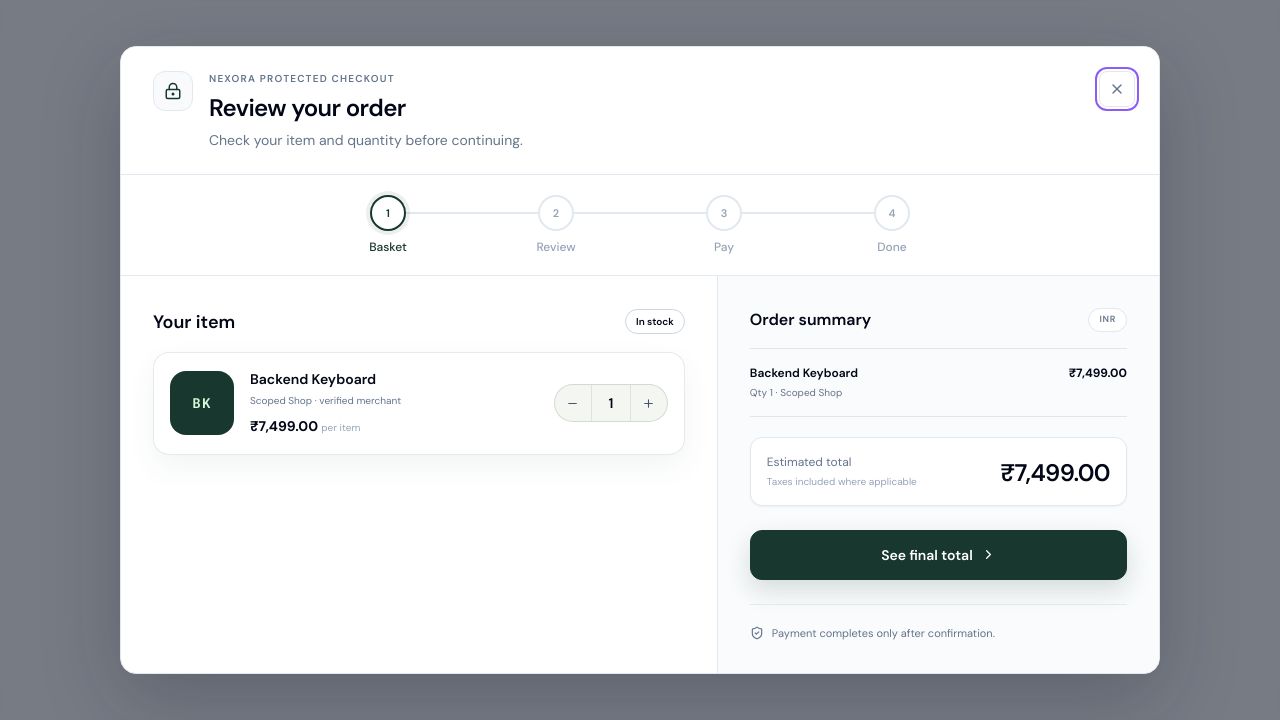
Test: approval-gated checkout › does not consume approval or reserve stock when Razorpay Checkout cannot load
Click the button "See final total" at coordinates (938, 555), box left=750, top=530, right=1127, bottom=580
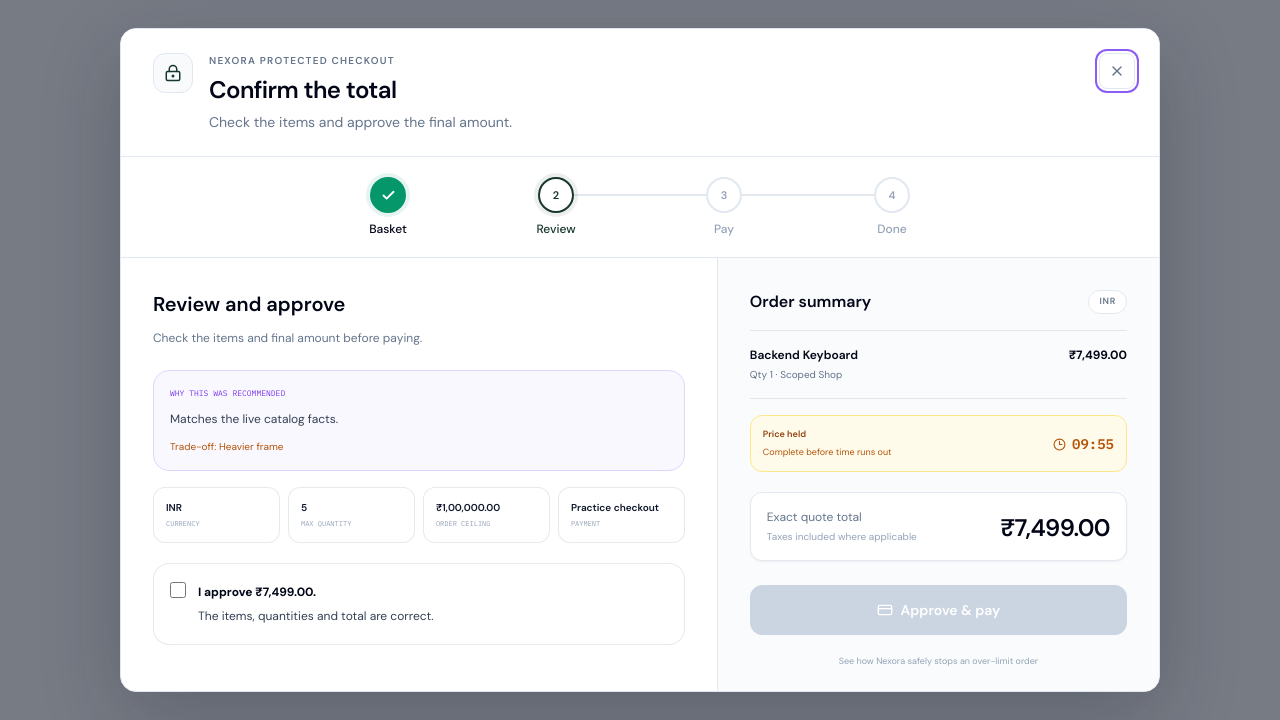
Result: the heading "Review and approve" is shown at left=153, top=291, right=346, bottom=317
Click the checkbox labelled "I approve" at coordinates (178, 590), box left=170, top=582, right=186, bottom=598
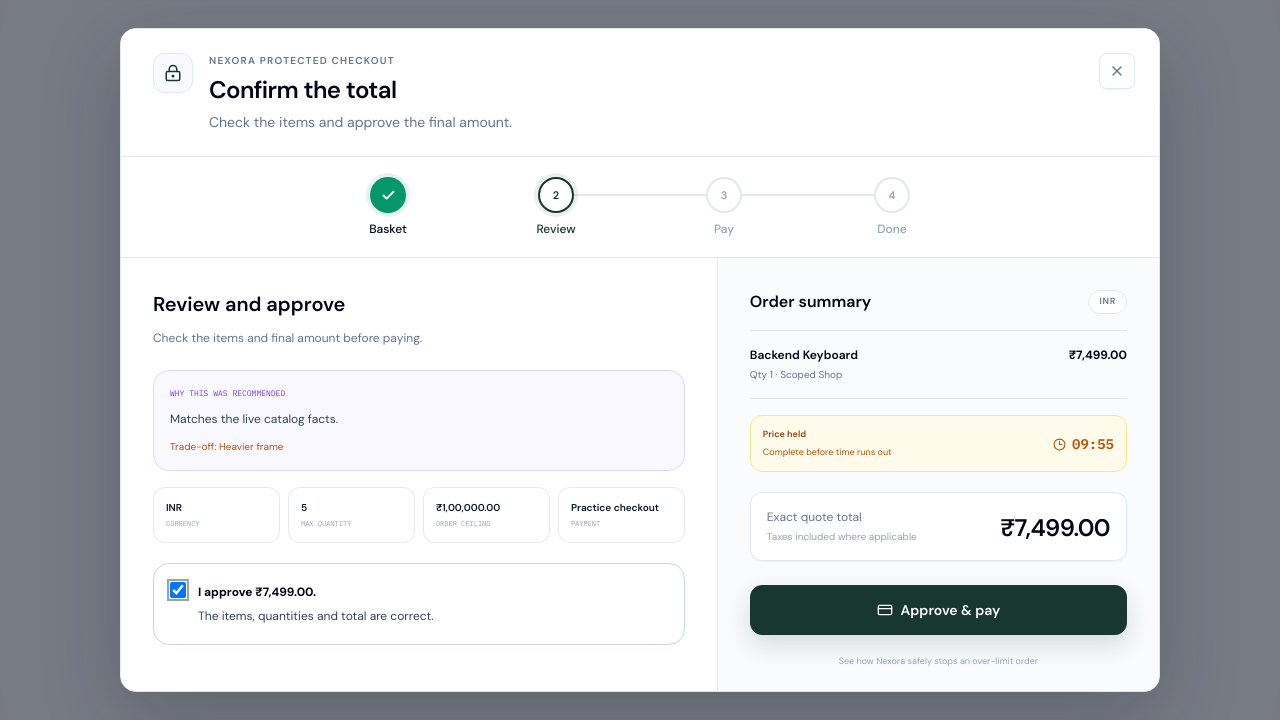
Click the button "Approve & pay" at coordinates (938, 610), box left=750, top=585, right=1127, bottom=635
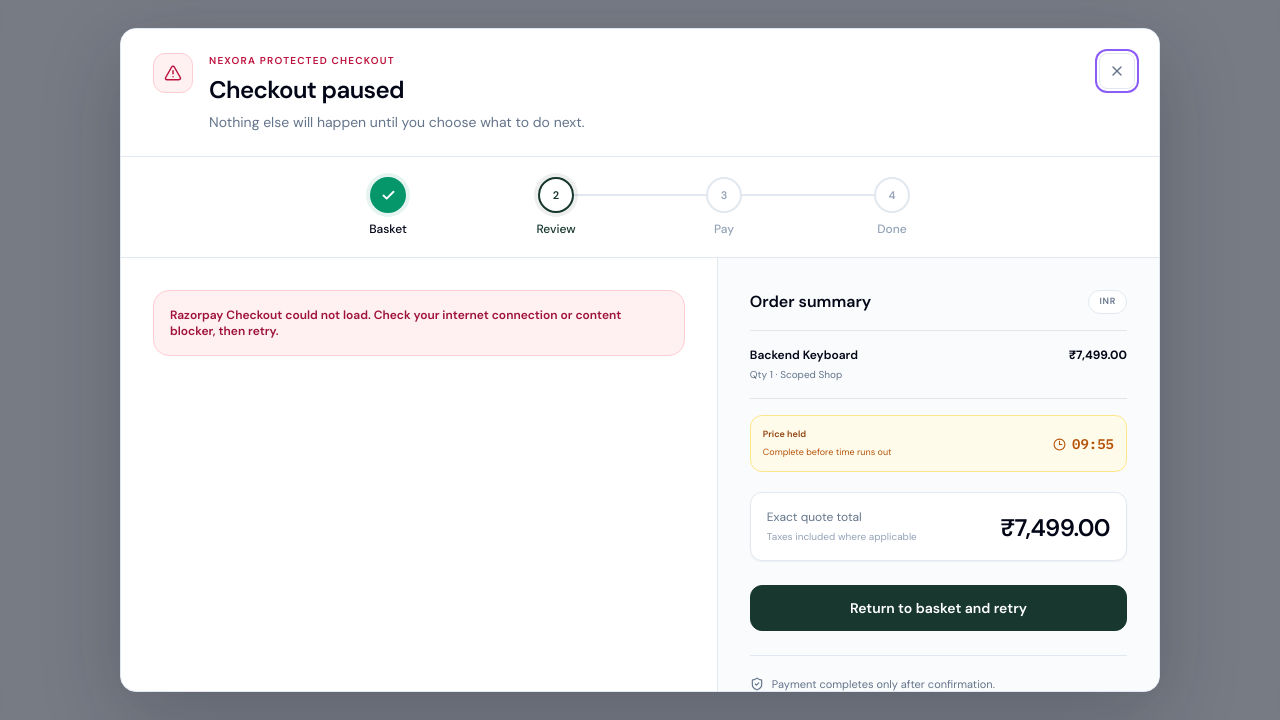
Result: the text "Razorpay Checkout could not load" is shown at left=170, top=307, right=621, bottom=339
